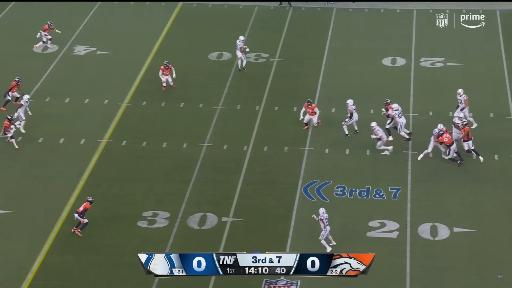Helmet: (23, 94, 31, 102), (461, 120, 469, 128), (318, 207, 326, 215), (346, 99, 355, 106), (15, 77, 22, 85), (86, 197, 94, 204), (371, 122, 378, 129), (458, 113, 464, 121), (6, 115, 13, 121), (239, 35, 245, 42), (392, 104, 399, 110), (457, 89, 463, 96), (385, 99, 391, 105), (438, 124, 444, 130), (48, 22, 53, 29), (307, 100, 312, 107), (438, 131, 445, 136), (165, 62, 170, 67)
Jersey: (391, 107, 405, 122), (76, 203, 90, 218), (439, 133, 453, 146), (433, 128, 446, 141), (374, 127, 386, 140), (319, 214, 329, 229), (304, 104, 316, 116), (18, 100, 29, 112), (8, 82, 20, 93), (457, 95, 467, 108), (462, 127, 471, 141), (161, 66, 172, 76), (42, 25, 54, 34), (348, 105, 357, 117), (3, 121, 11, 134), (453, 117, 461, 130), (433, 129, 445, 136), (385, 105, 391, 117), (237, 40, 243, 51)
Player: (418, 124, 446, 160), (313, 208, 335, 252), (386, 104, 412, 141), (461, 120, 483, 161), (438, 131, 463, 166), (455, 89, 477, 128), (72, 197, 93, 236), (0, 78, 23, 110), (371, 122, 393, 154), (35, 22, 60, 49), (382, 99, 398, 140), (300, 100, 321, 129), (15, 95, 31, 133), (343, 100, 358, 138), (2, 115, 18, 149), (159, 61, 175, 90), (382, 99, 393, 140), (452, 113, 464, 143), (237, 36, 247, 71), (453, 113, 463, 139)
